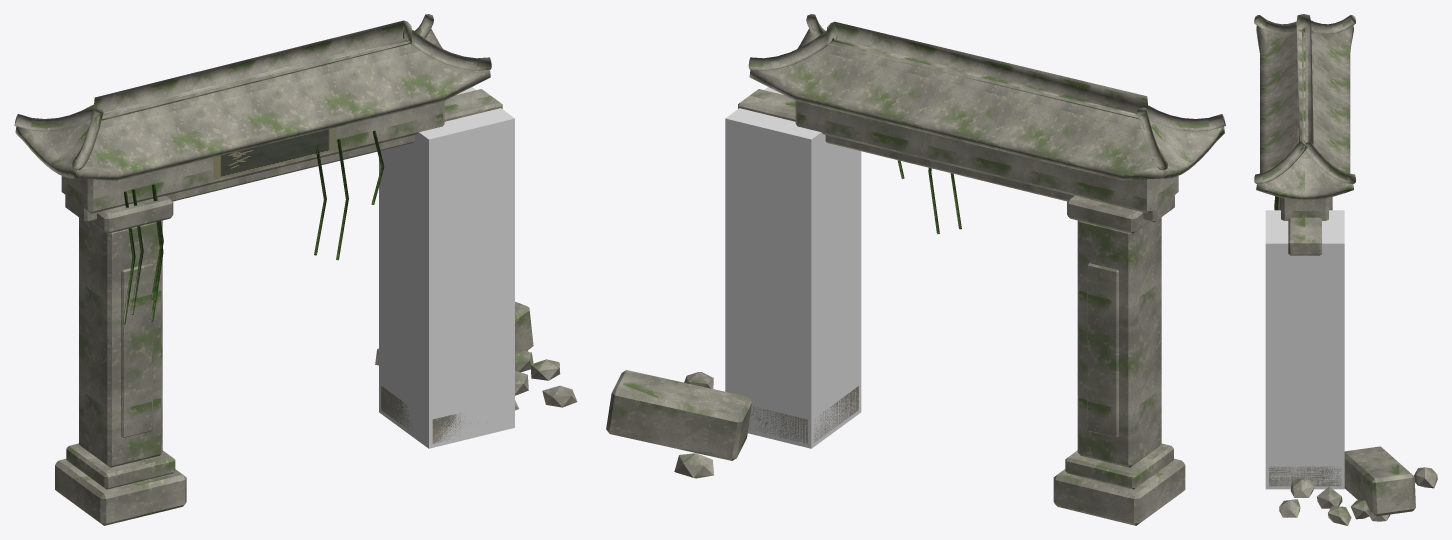
File: stone_archway.glb
3 renders of one model, left to right at view 1: azimuth 30°, elevation 25°; view 2: azimuth 150°, elevation 25°; view 3: azimuth 270°, elevation 25°, orthographic. The views are drawn at different scales.
Parts seen in each view (by area): view 1: ArchStone, ArchPillar-convcolonly.001, ArchEave, ArchEaveRidges, ArchPlaque, ArchVines; view 2: ArchStone, ArchPillar-convcolonly.001, ArchEave, ArchEaveRidges; view 3: ArchPillar-convcolonly.001, ArchEave, ArchStone, ArchEaveRidges.
Boxes of the visible parts, x1,y1,x2,y2 form: ArchStone: [55, 89, 577, 525]; ArchPillar-convcolonly.001: [379, 87, 514, 448]; ArchEave: [15, 25, 490, 180]; ArchEaveRidges: [14, 14, 491, 170]; ArchPlaque: [213, 127, 336, 179]; ArchVines: [122, 130, 384, 324]; ArchStone: [606, 89, 1185, 525]; ArchPillar-convcolonly.001: [725, 87, 861, 448]; ArchEave: [749, 25, 1224, 180]; ArchEaveRidges: [748, 14, 1225, 170]; ArchPillar-convcolonly.001: [1265, 210, 1344, 489]; ArchEave: [1256, 24, 1353, 200]; ArchStone: [1269, 197, 1437, 525]; ArchEaveRidges: [1254, 14, 1355, 183].
Size of what is drawn, in the model's own units: 8.76 by 6.45 by 3.25.
3 materials, 3 textured.
